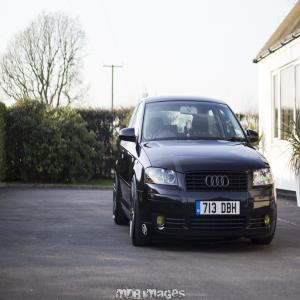Vehicle-registration-plate: (198, 203, 241, 217)
